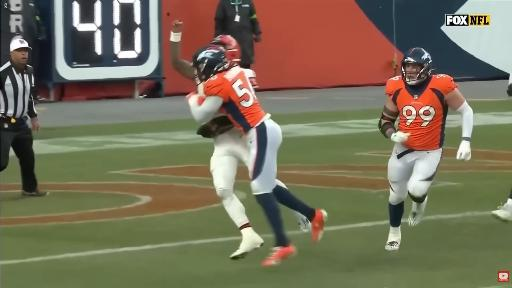Helmet: (193, 47, 231, 81), (401, 48, 432, 85), (211, 35, 240, 63)
Jersey: (386, 75, 457, 150), (204, 67, 266, 133), (242, 68, 258, 90)
Player: (188, 50, 326, 266), (379, 48, 473, 250), (198, 114, 262, 259), (492, 190, 511, 221)
